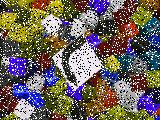Left: (52, 33, 104, 91)
